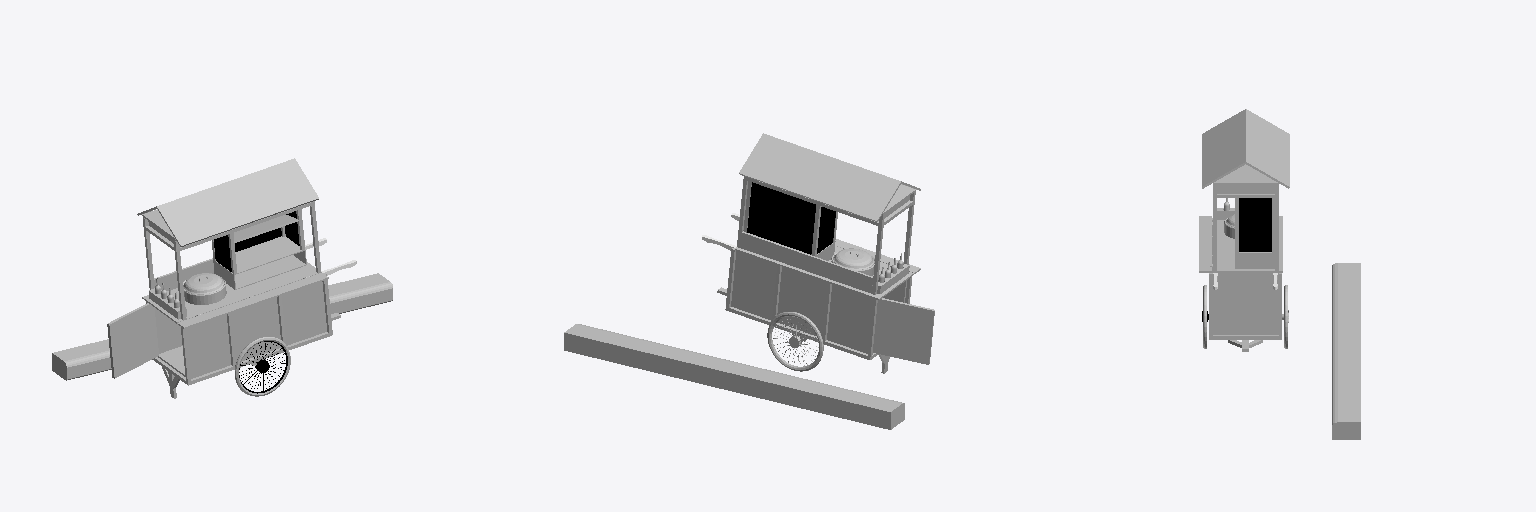
The model's file is Yatai.obj.
3 views of the same model, side by side, from view 1: azimuth 30°, elevation 25°; view 2: azimuth 150°, elevation 25°; view 3: azimuth 270°, elevation 25° (orthographic).
Parts seen in each view (by area): view 1: default; view 2: default; view 3: default.
Boxes of the visible parts, x1=… form: default: x1=52, y1=158, x2=392, y2=398; default: x1=564, y1=133, x2=934, y2=429; default: x1=1199, y1=109, x2=1360, y2=439.
Size of the model in its own units: 1145 by 703 by 494.